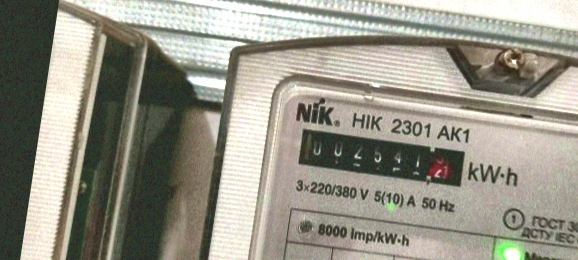0: (309, 135, 325, 158), (330, 136, 345, 159)
1: (410, 146, 424, 171)
2: (350, 138, 367, 162)
4: (390, 143, 404, 166)
5: (369, 141, 386, 166)
6: (431, 165, 444, 179)
screen: (284, 116, 478, 197)
